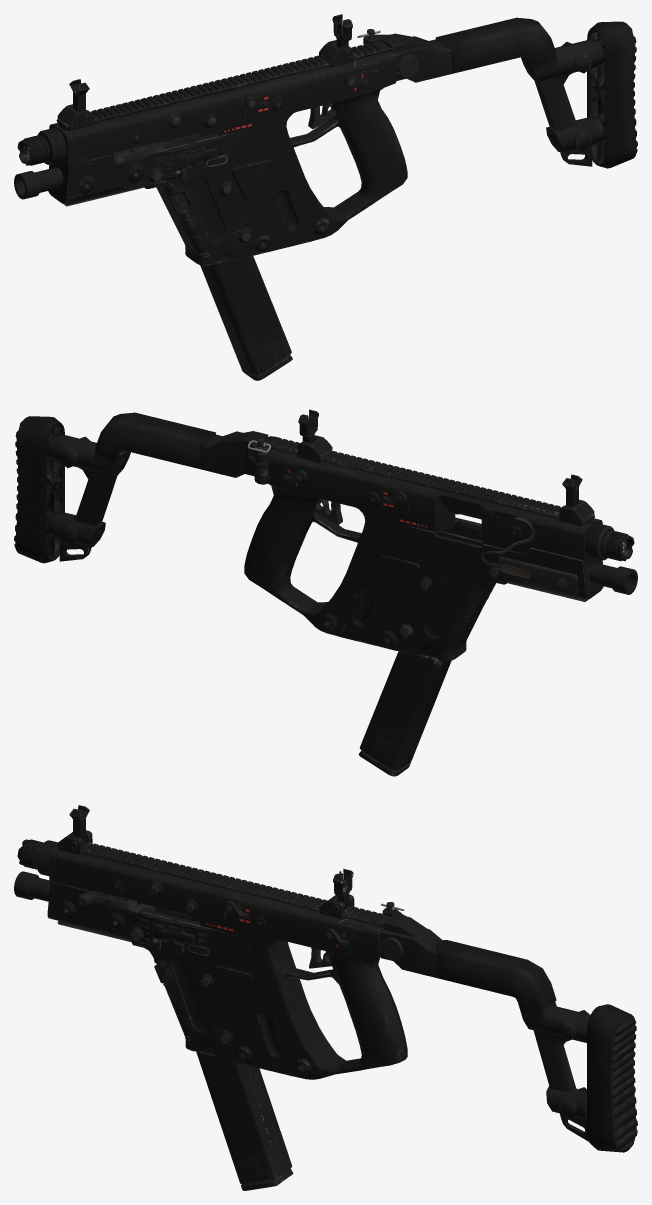
The model's file is weapon_vector.glb.
The picture shows the model from 3 angles, top to bottom: view 1: azimuth 30°, elevation 25°; view 2: azimuth 150°, elevation 25°; view 3: azimuth 330°, elevation 25°; orthographic projection.
Visible parts, largest first — view 1: main_frame_vector, stock_vector, magazine_vector, grip_vector, rear_sight_vector, barrel_vector, front_sight_vector; view 2: main_frame_vector, stock_vector, magazine_vector, grip_vector, rear_sight_vector, barrel_vector, front_sight_vector; view 3: main_frame_vector, stock_vector, magazine_vector, grip_vector, rear_sight_vector, front_sight_vector, barrel_vector.
Boxes of the visible parts, bbox=[...] form: main_frame_vector: bbox=[17, 40, 396, 265]; stock_vector: bbox=[357, 17, 637, 168]; magazine_vector: bbox=[200, 254, 292, 380]; grip_vector: bbox=[290, 88, 407, 230]; rear_sight_vector: bbox=[319, 14, 353, 67]; barrel_vector: bbox=[14, 167, 63, 199]; front_sight_vector: bbox=[57, 79, 92, 131]; main_frame_vector: bbox=[254, 436, 634, 661]; stock_vector: bbox=[14, 412, 270, 563]; magazine_vector: bbox=[358, 650, 451, 776]; grip_vector: bbox=[244, 483, 361, 625]; rear_sight_vector: bbox=[297, 409, 332, 462]; barrel_vector: bbox=[588, 562, 637, 594]; front_sight_vector: bbox=[559, 474, 594, 526]; main_frame_vector: bbox=[17, 837, 391, 1079]; stock_vector: bbox=[380, 902, 637, 1152]; magazine_vector: bbox=[196, 1047, 293, 1190]; grip_vector: bbox=[281, 951, 407, 1078]; rear_sight_vector: bbox=[319, 868, 354, 919]; front_sight_vector: bbox=[57, 805, 92, 855]; barrel_vector: bbox=[14, 871, 50, 901].
Size of the model in its own units: 87.41 by 46.02 by 8.16.
Materials: 1 (1 with a texture image).
